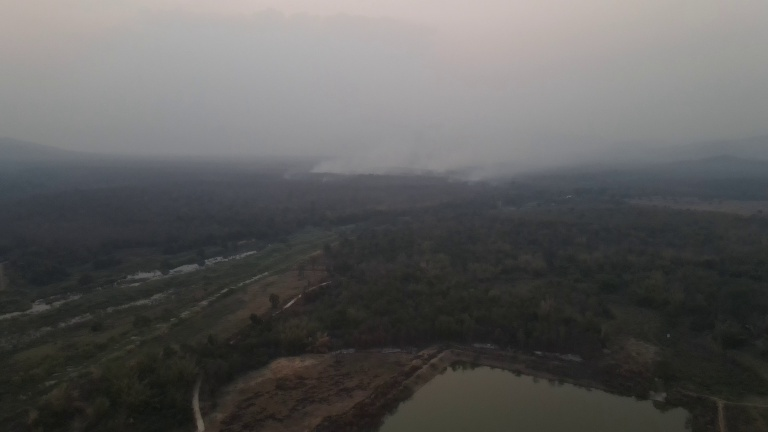smoke: (305, 113, 560, 194)
